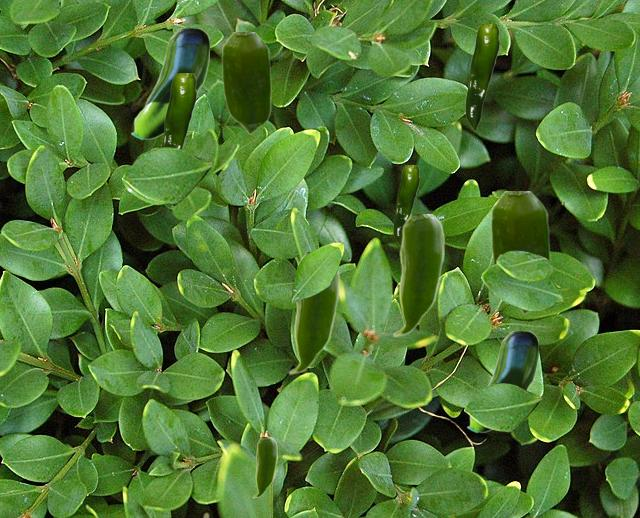green_chili: (130, 28, 208, 139), (490, 191, 549, 313), (466, 331, 537, 432), (287, 252, 338, 374), (392, 214, 443, 336), (221, 32, 270, 133), (465, 24, 498, 130), (161, 73, 195, 148), (393, 165, 418, 245), (252, 437, 276, 497)
